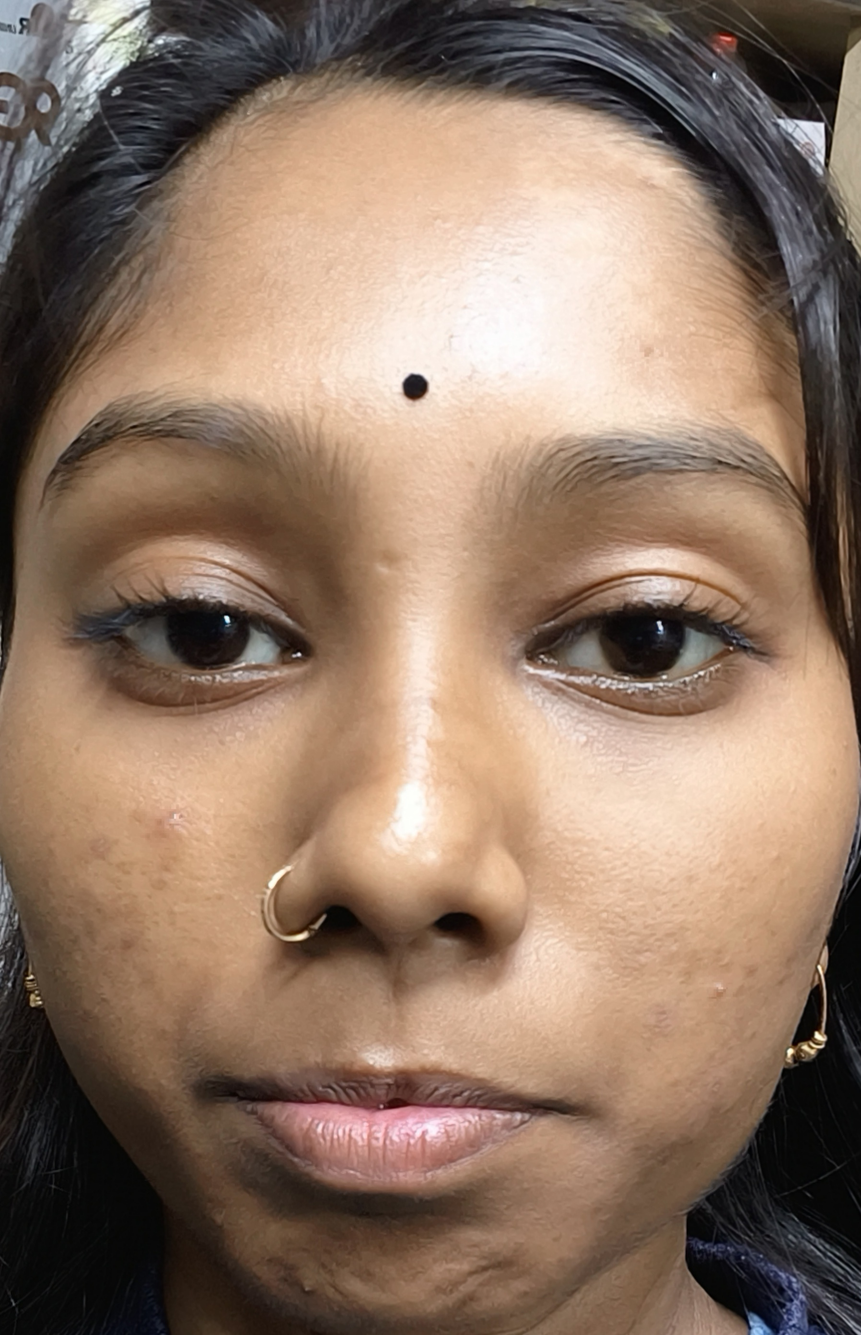closed_comedone: (697, 959, 763, 1014)
papule: (140, 796, 211, 849)
